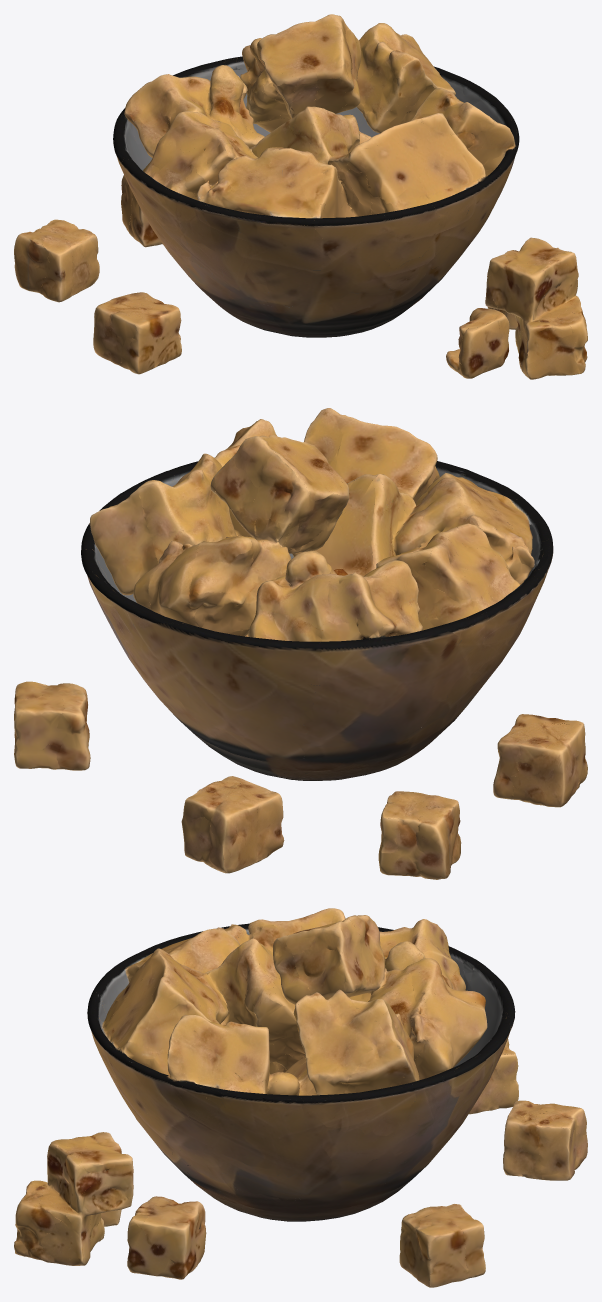
The model's file is white_choclate.glb.
3 renders of one model, top to bottom at view 1: azimuth 30°, elevation 25°; view 2: azimuth 150°, elevation 25°; view 3: azimuth 270°, elevation 25°, orthographic. The views are drawn at different scales.
Visible parts, largest first — view 1: Mesh_0.003; view 2: Mesh_0.003; view 3: Mesh_0.003.
Boxes of the visible parts, x1=… form: Mesh_0.003: x1=14, y1=14, x2=587, y2=379; Mesh_0.003: x1=14, y1=408, x2=587, y2=879; Mesh_0.003: x1=14, y1=908, x2=587, y2=1287.
Bounding box in the file's own units: 1.67 × 1.04 × 1.91.
Materials: 1 (1 with a texture image).
